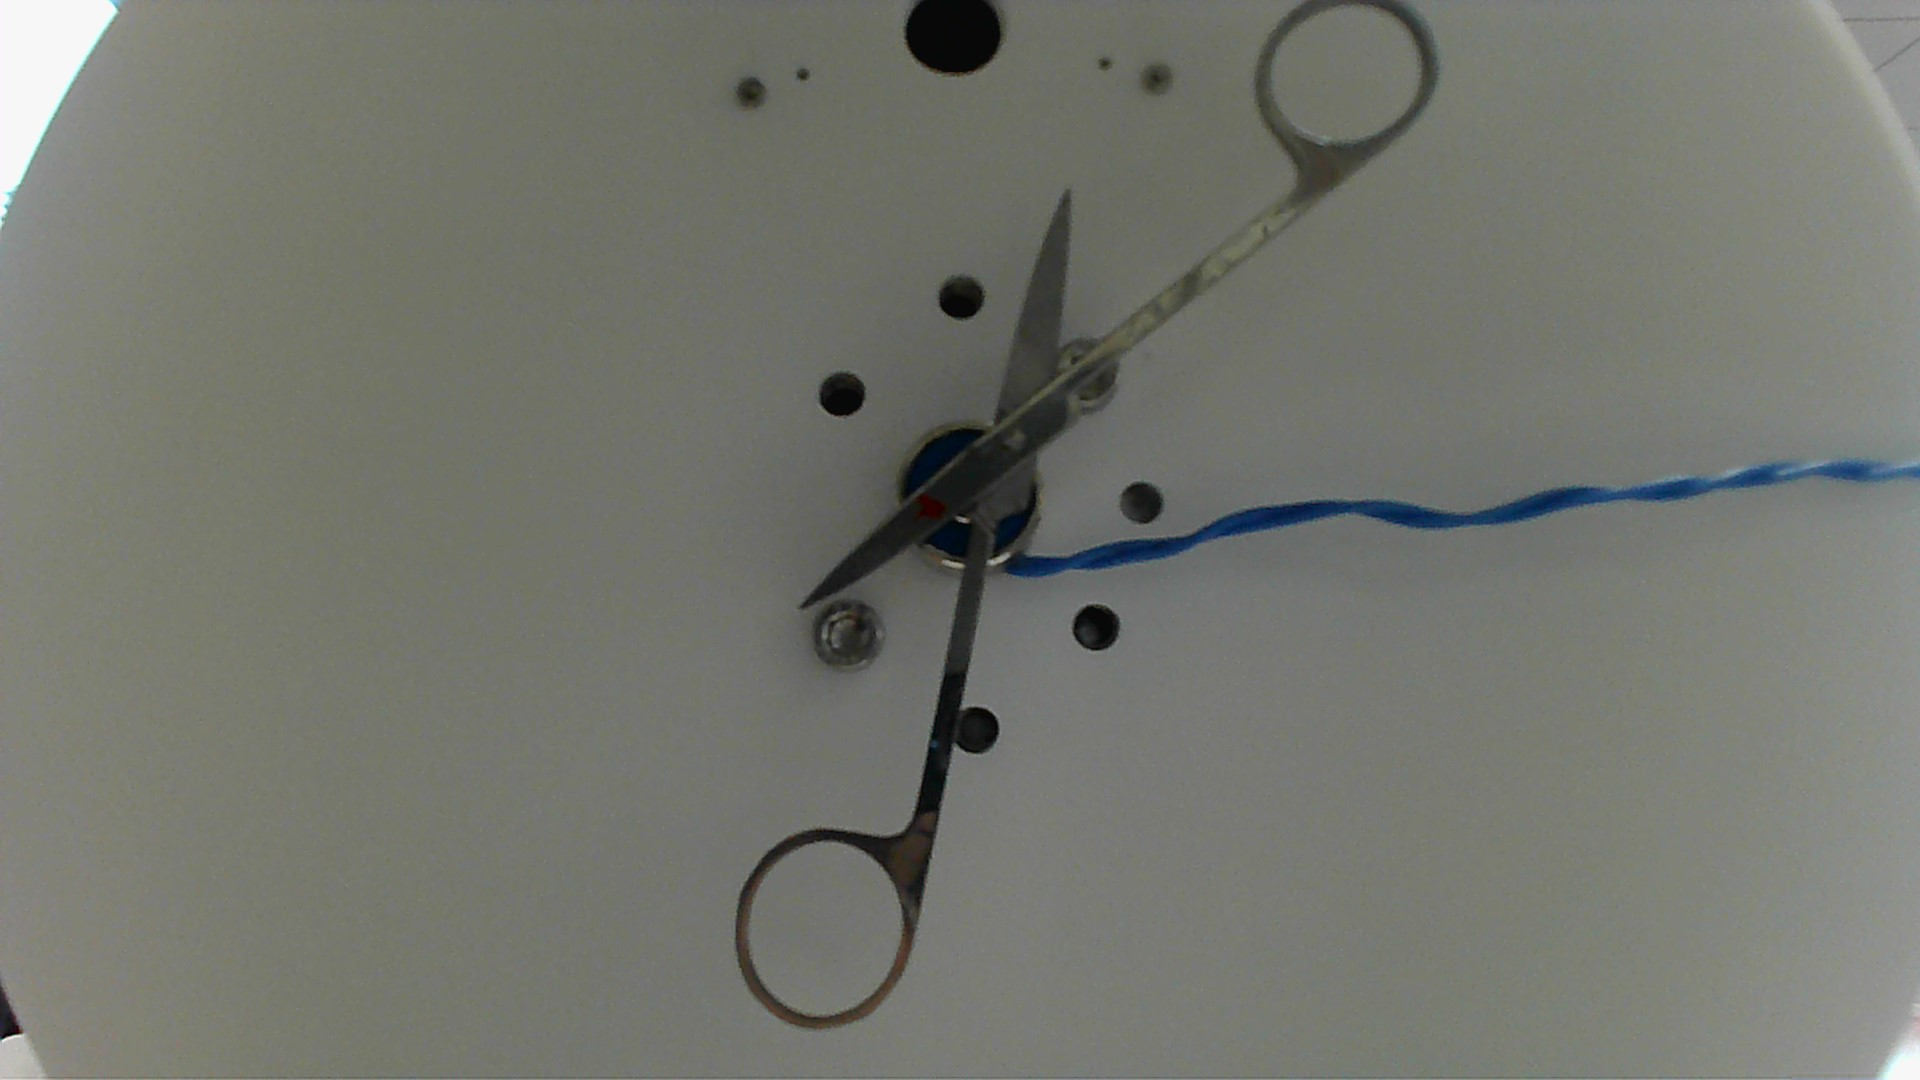Stain: (911, 492, 953, 533)
